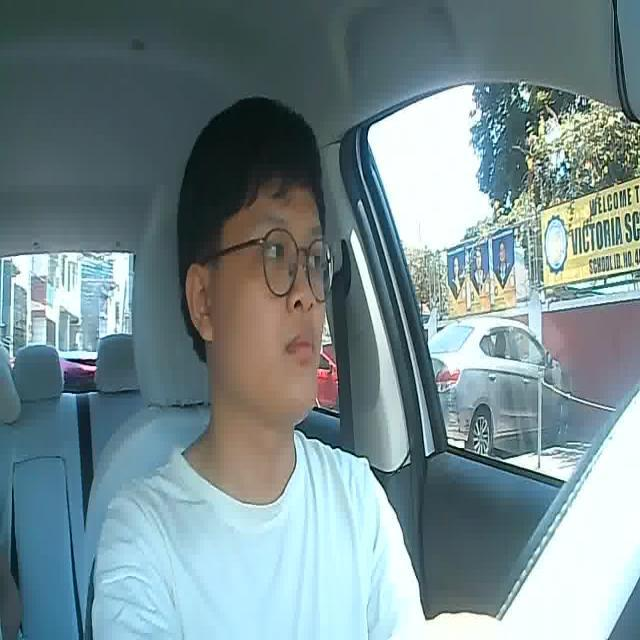Attentive: (171, 95, 344, 426)
Eye-Open: (264, 239, 289, 262), (307, 246, 329, 268)
Normal: (281, 330, 320, 366)
